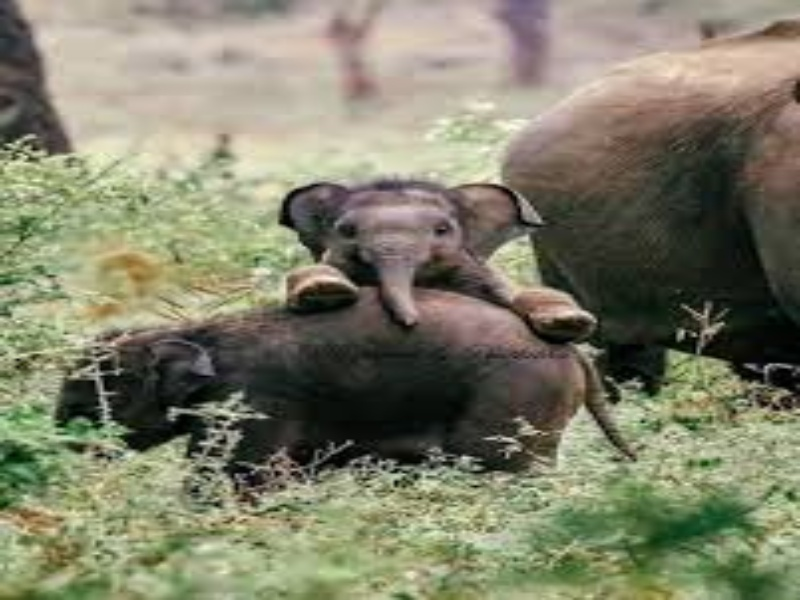elephant: (60, 290, 673, 501), (281, 140, 555, 322)
